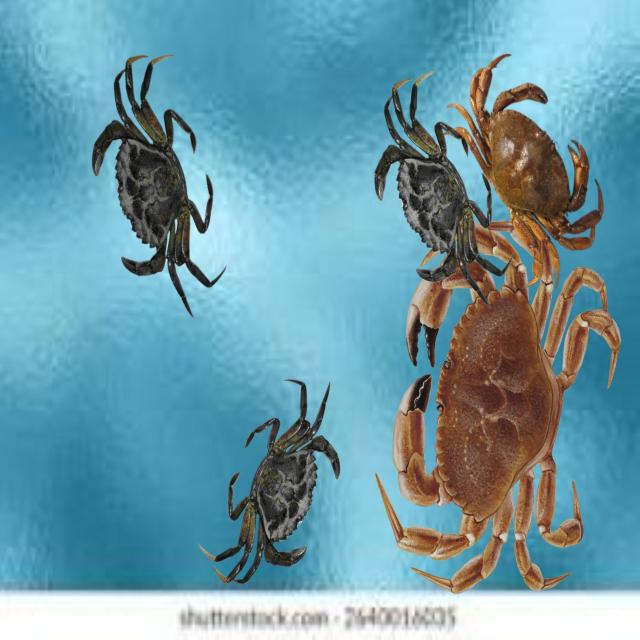European_Green_Crab: (57, 35, 255, 342), (181, 352, 385, 621), (340, 60, 531, 333)
